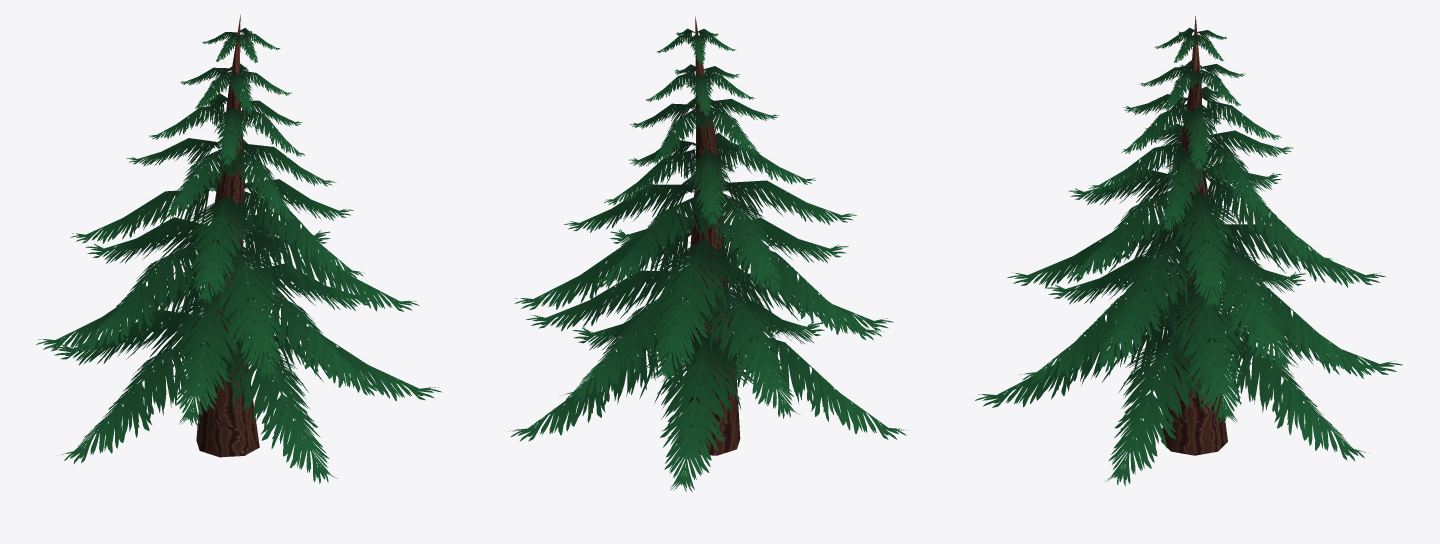
Rendered from pineTree02.obj.
3 views of the same model, side by side, from view 1: azimuth 30°, elevation 25°; view 2: azimuth 150°, elevation 25°; view 3: azimuth 270°, elevation 25° (orthographic).
Parts seen in each view (by area): view 1: leaves_Plane.001, bark_Circle.001; view 2: leaves_Plane.001, bark_Circle.001; view 3: leaves_Plane.001, bark_Circle.001.
Boxes of the visible parts, box(x1,y1,x2,y2) form: leaves_Plane.001: box(36, 28, 441, 483); bark_Circle.001: box(196, 14, 259, 457); leaves_Plane.001: box(508, 28, 908, 492); bark_Circle.001: box(677, 16, 740, 455); leaves_Plane.001: box(975, 27, 1402, 486); bark_Circle.001: box(1161, 16, 1227, 455).
Size of the model in its own units: 2.41 by 2.52 by 2.45.
